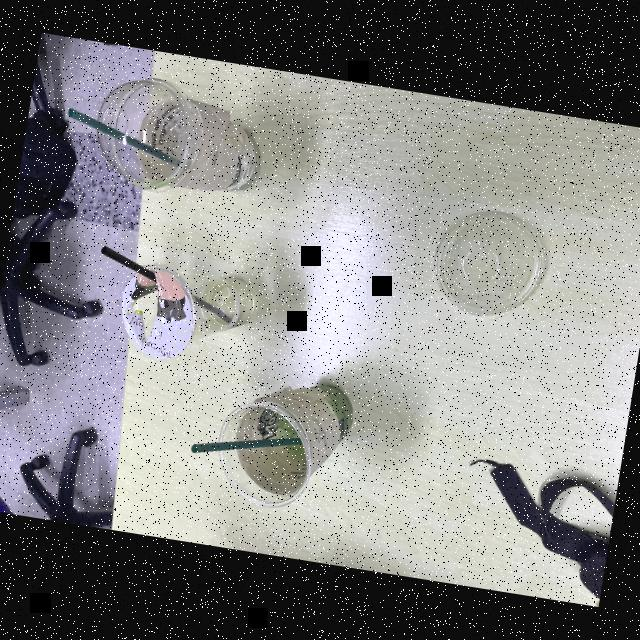plastic_cup: (90, 72, 276, 212), (206, 364, 364, 528), (103, 252, 268, 384)
plastic_cup_lid: (414, 193, 566, 341), (82, 71, 202, 197)
straw: (72, 240, 247, 327), (47, 105, 189, 173), (186, 411, 309, 481)
